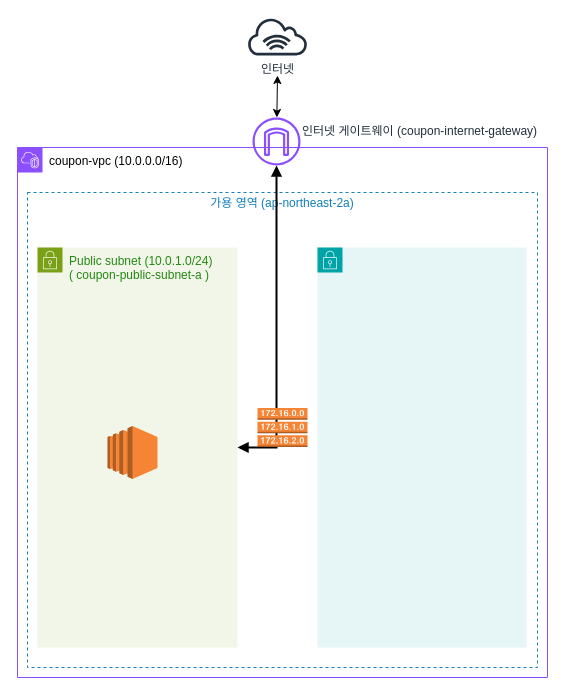
Some shapes in this 565 by 695 pixel diagram are drawn without their labels. The shapes that lost their labels are listed below. From the top down, each one's box as (x1, y1, x2, y2) in pixels, then its label:
(256, 407, 308, 447): 라우팅 테이블 ( coupon-public-routing-table )
(316, 246, 526, 648): Private subnet (10.0.2.0/24) ( coupon-private-subnet-a )
(106, 425, 158, 479): EC2 인스턴스 ( coupon-web-server )
